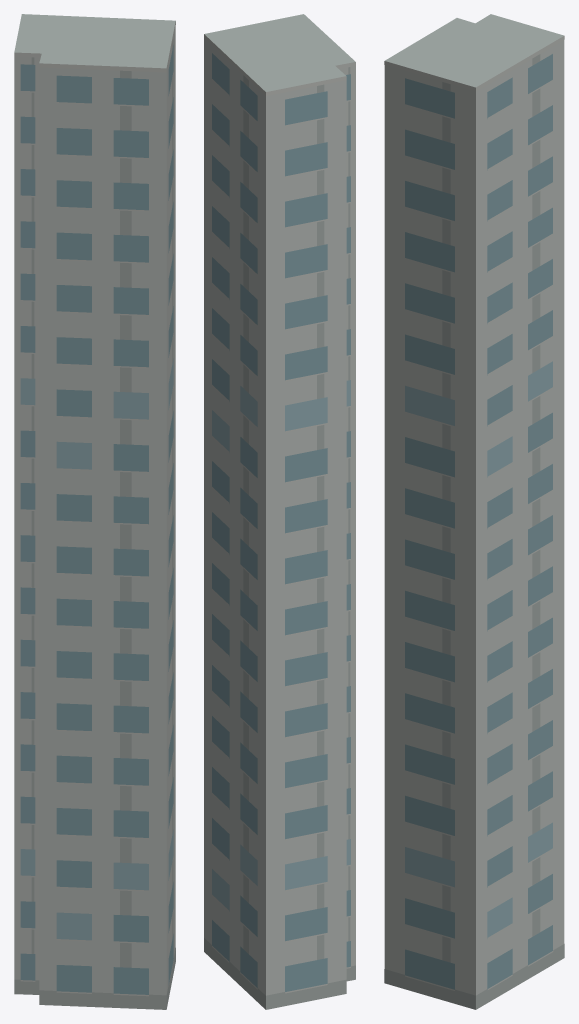
Rendered from survey-upis-32660949.glb.
3 renders of one model, left to right at view 1: azimuth 30°, elevation 25°; view 2: azimuth 150°, elevation 25°; view 3: azimuth 270°, elevation 25°, orthographic. The views are drawn at different scales.
Parts seen in each view (by area): view 1: survey-upis-32660949.tmp; view 2: survey-upis-32660949.tmp; view 3: survey-upis-32660949.tmp.
Boxes of the visible parts, x1=… form: survey-upis-32660949.tmp: x1=14, y1=14, x2=175, y2=1009; survey-upis-32660949.tmp: x1=204, y1=14, x2=355, y2=1009; survey-upis-32660949.tmp: x1=384, y1=14, x2=564, y2=1009.
Bounding box in the file's own units: 9.4 × 54.9 × 9.72.
